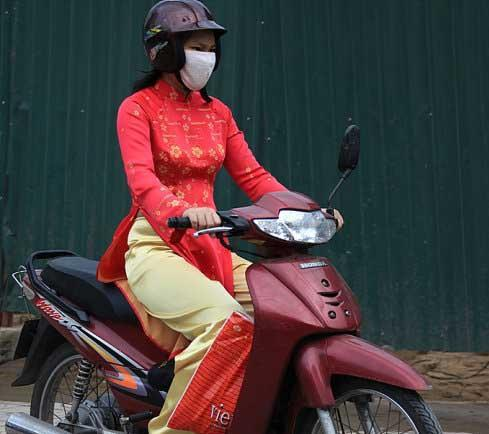OK: (165, 33, 221, 89)
